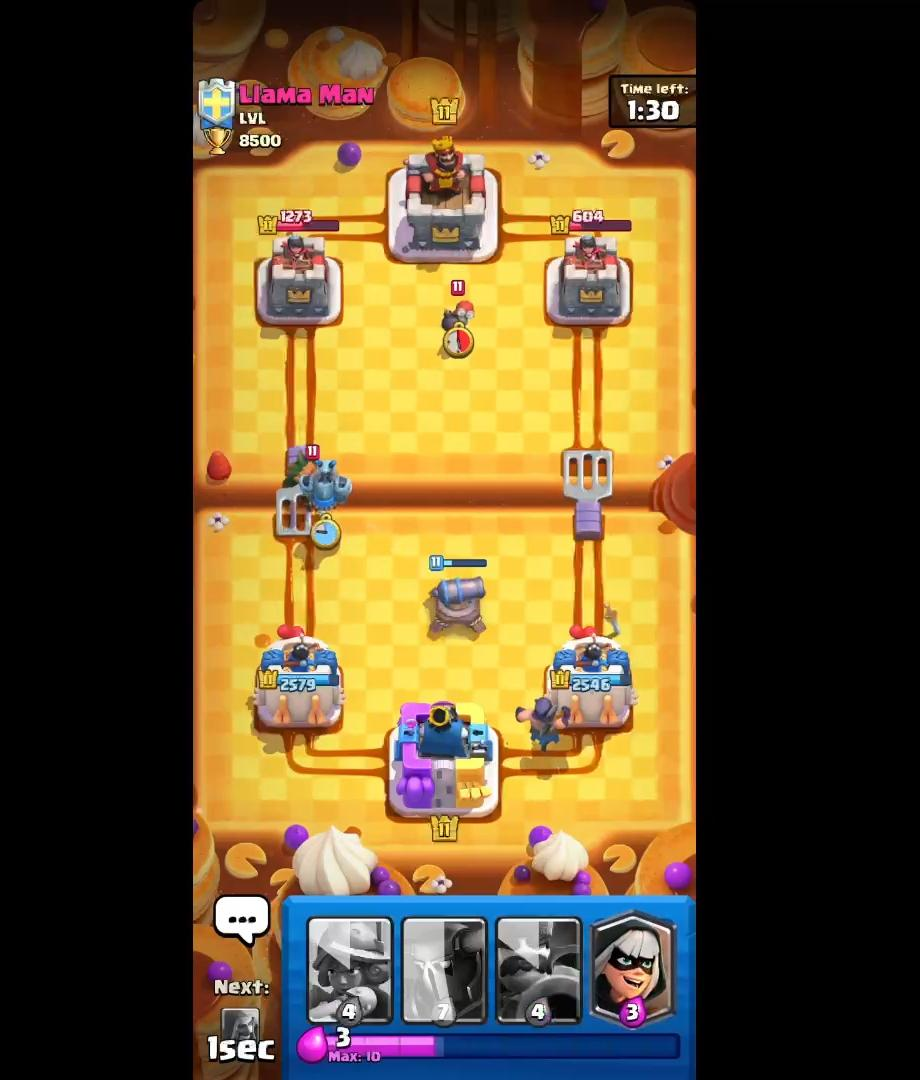Bomber: (432, 278, 488, 355)
